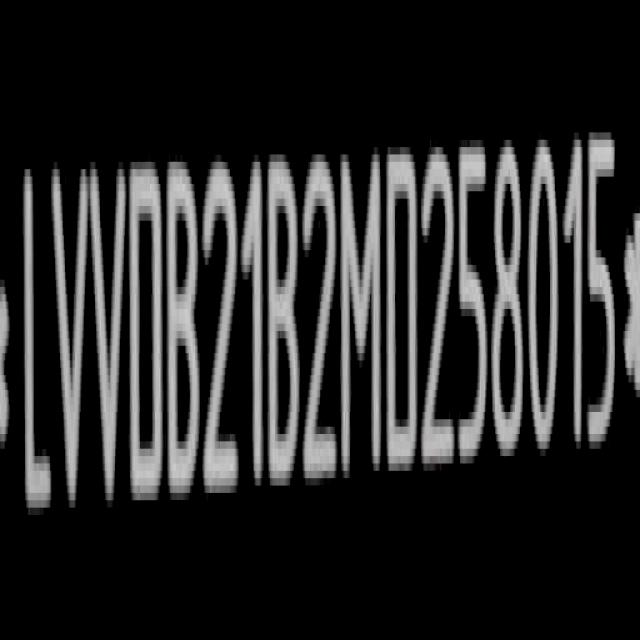0: (528, 143, 560, 463)
1: (242, 157, 265, 505), (562, 130, 583, 457)
2: (301, 151, 340, 494), (206, 164, 241, 514), (422, 149, 456, 483)
5: (459, 143, 491, 474), (591, 129, 620, 452)
8: (493, 142, 526, 464)
B: (167, 160, 202, 513), (268, 152, 300, 498)
D: (128, 158, 163, 512), (388, 148, 421, 481)
L: (20, 157, 52, 522)
M: (342, 148, 385, 491)
V: (90, 156, 130, 516), (50, 162, 90, 518)
